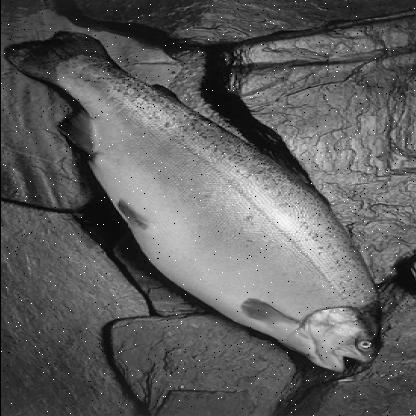fish: (6, 29, 384, 373)
